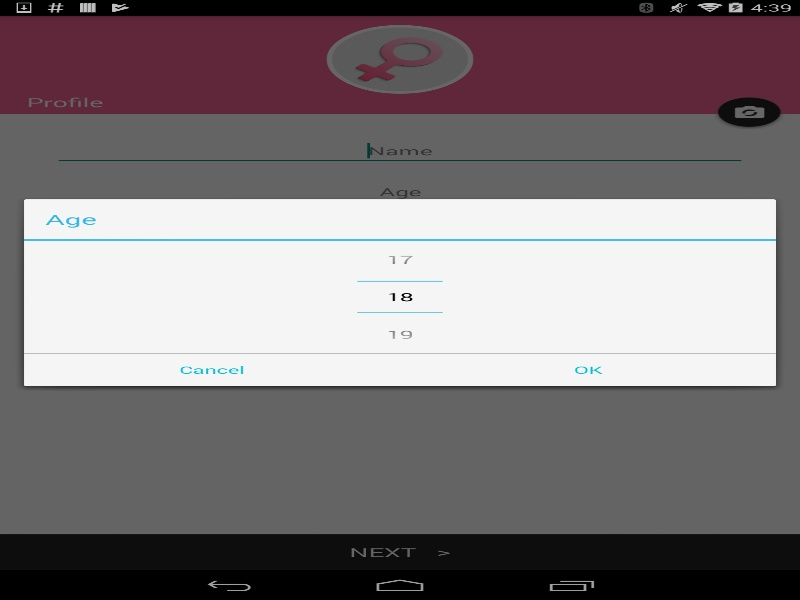Button: (26, 355, 397, 385), (402, 355, 773, 385), (357, 311, 442, 353), (357, 240, 442, 281)
Input: (357, 281, 442, 311)
